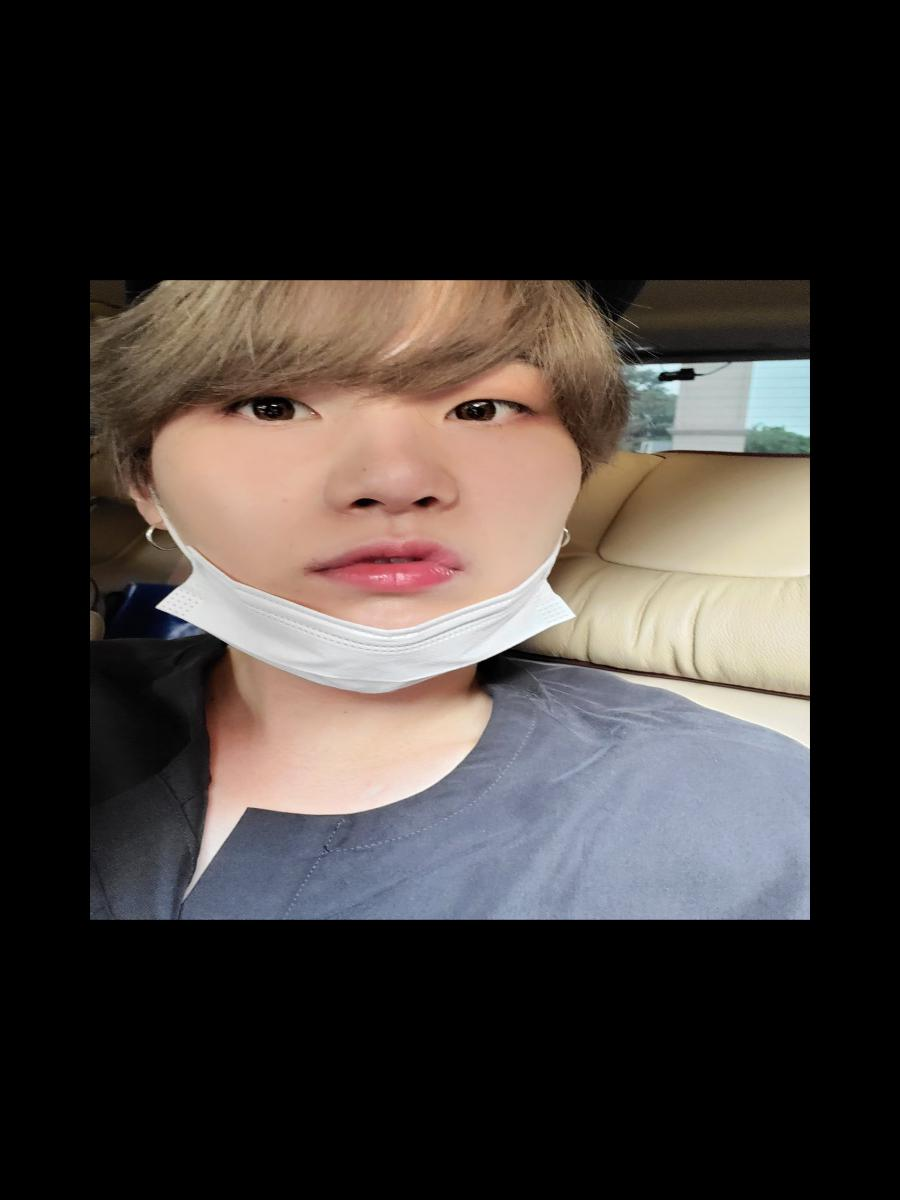mask_weared_incorrect: (196, 393, 586, 678)
